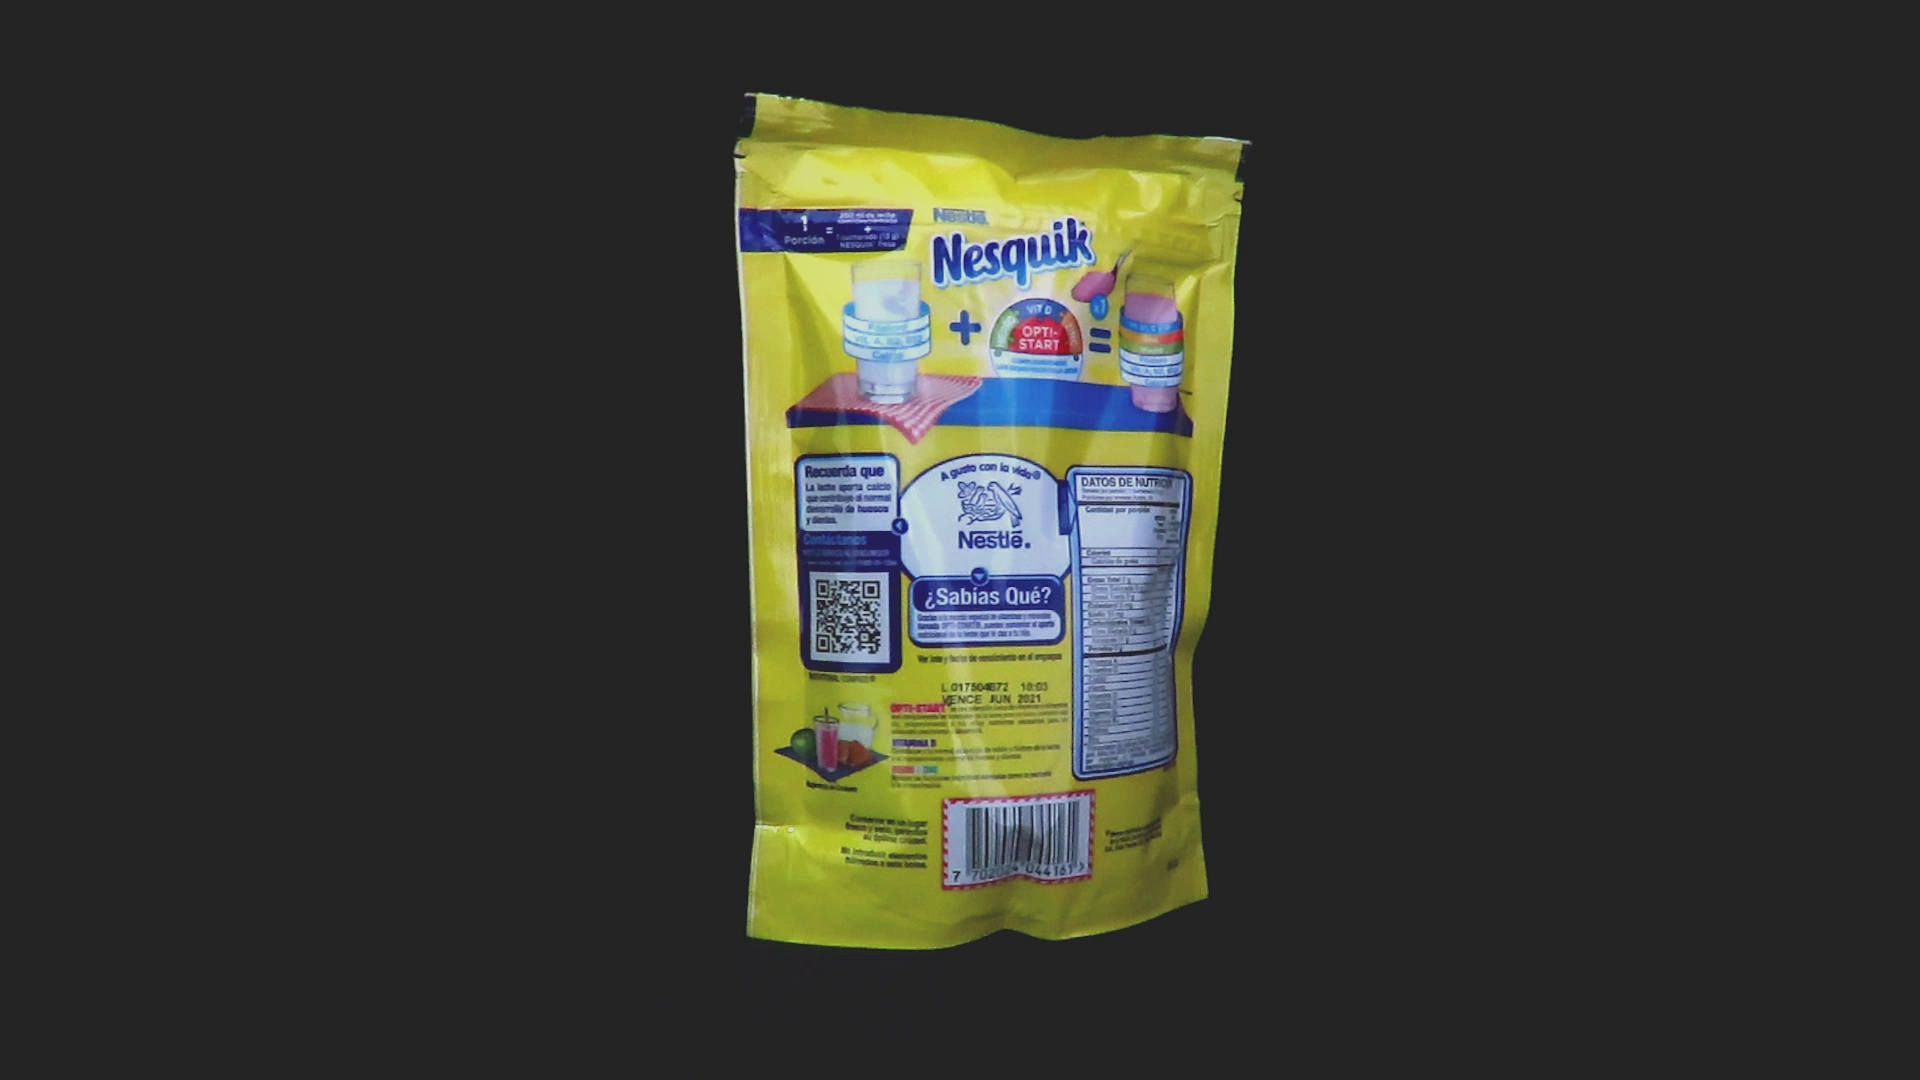COL0170305DYP20000: (728, 87, 1257, 956)
